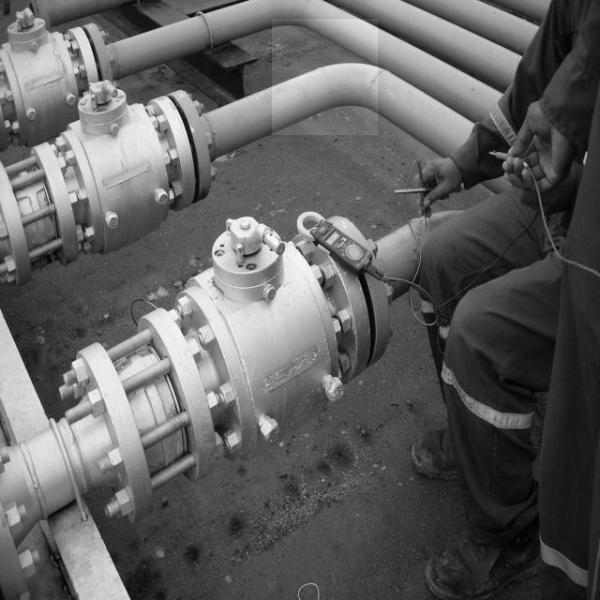no leak: (272, 19, 378, 135)
